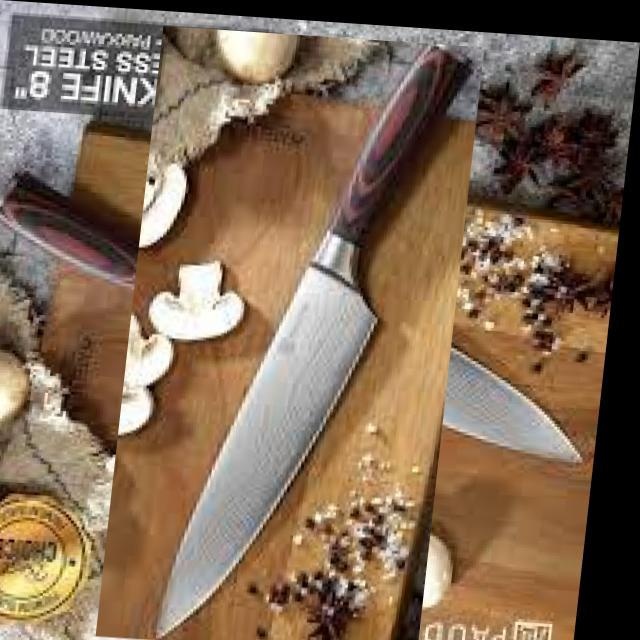knife: (152, 45, 467, 640), (0, 167, 584, 465)
